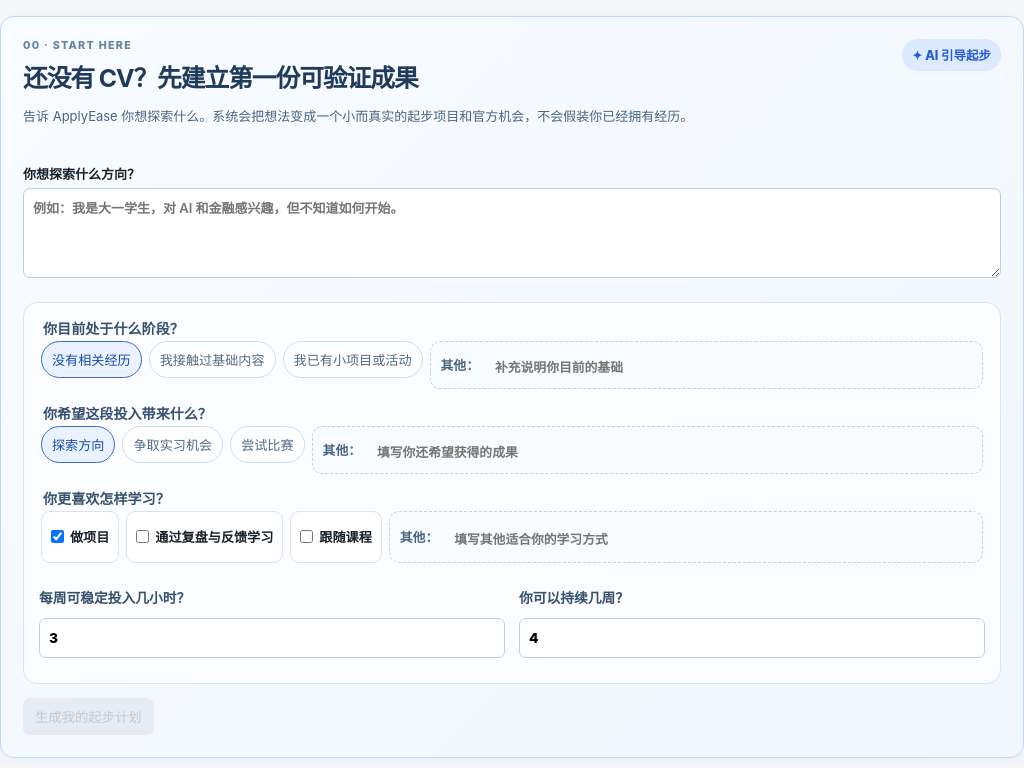
Test: ResourcePlanPage › gives a Year 1 student a no-CV starting plan with official opportunities
Type "我是大一学生，对 AI 和金融感兴趣。" into the text box labelled "你想探索什么方向？" at (512, 232), box [23,188,1001,278]
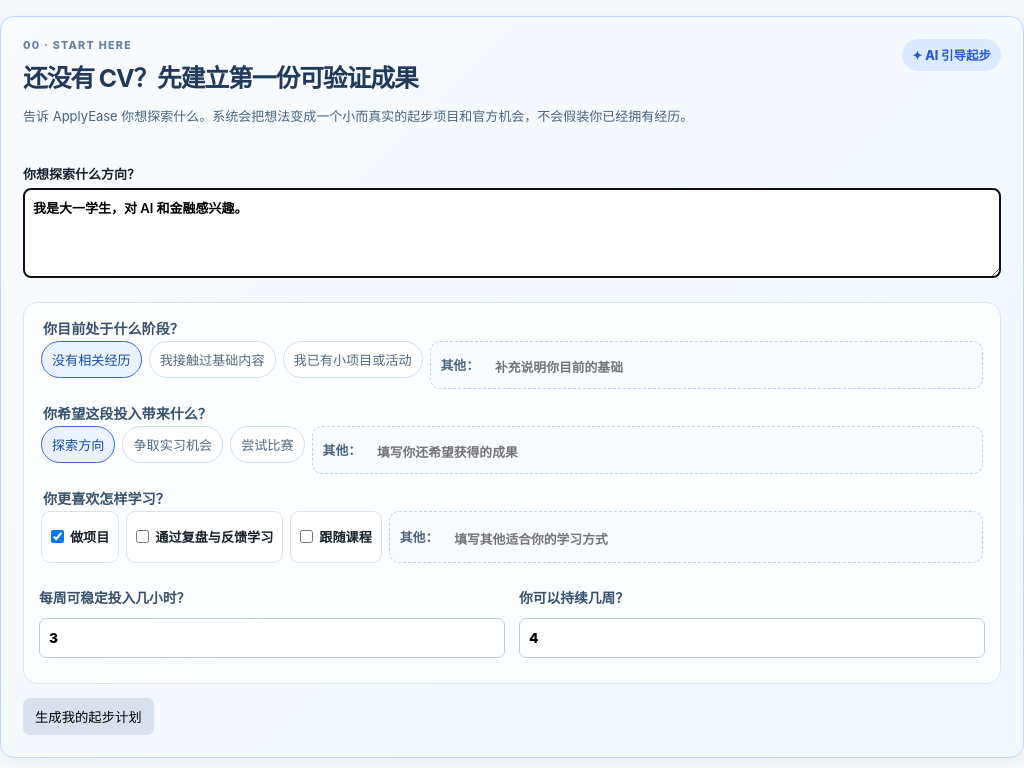
Click the button "生成我的起步计划" at (88, 716), box [23,698,154,734]
(page scrolled)
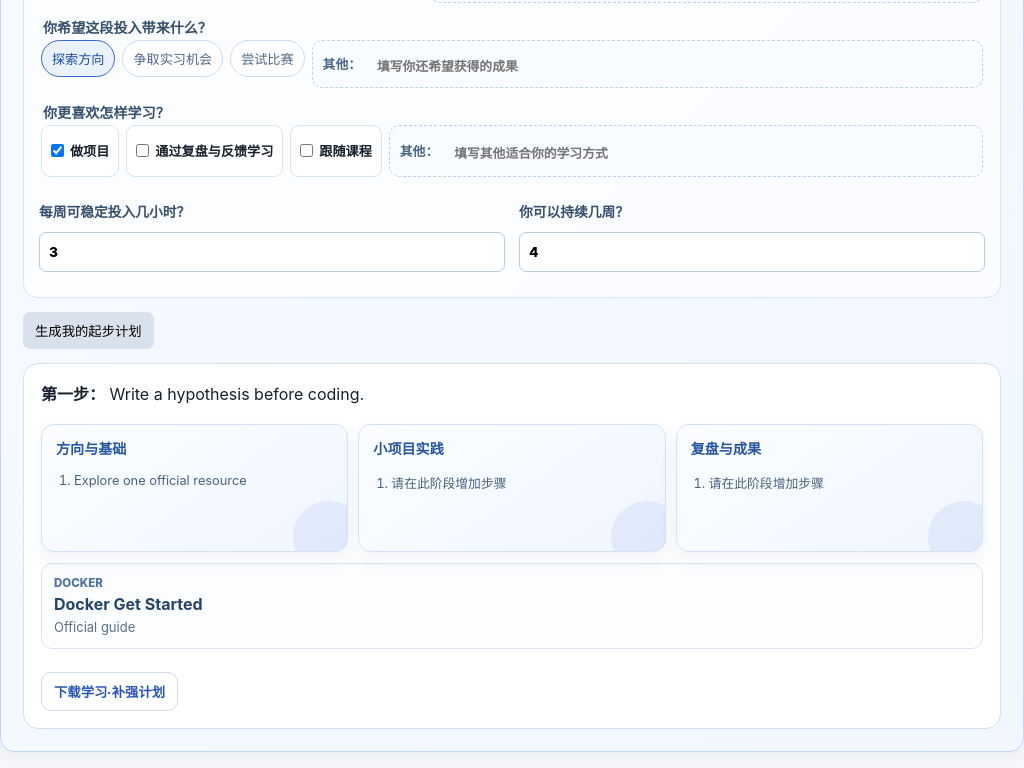
Check: the text "Write a hypothesis before coding." is shown, box [110,384,364,404]
